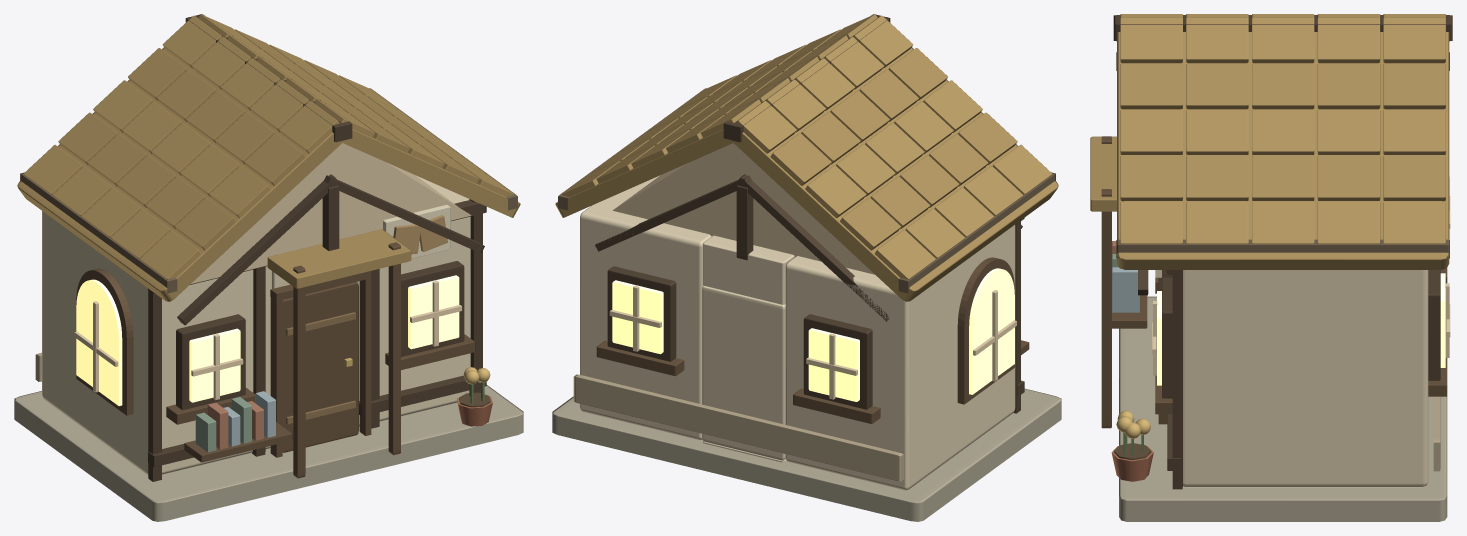
Rendered from library-3.glb.
3 views of the same model, side by side, from view 1: azimuth 30°, elevation 25°; view 2: azimuth 150°, elevation 25°; view 3: azimuth 270°, elevation 25° (orthographic). The views are drawn at different scales.
Parts seen in each view (by area): view 1: library-3-0, door-hinge; view 2: library-3-0; view 3: library-3-0.
Boxes of the visible parts, x1=… form: library-3-0: x1=14, y1=14, x2=523, y2=521; door-hinge: x1=282, y1=282, x2=358, y2=452; library-3-0: x1=552, y1=14, x2=1061, y2=521; library-3-0: x1=1090, y1=14, x2=1452, y2=521.
Size of the model in its own units: 2.8 by 2.58 by 2.1.
